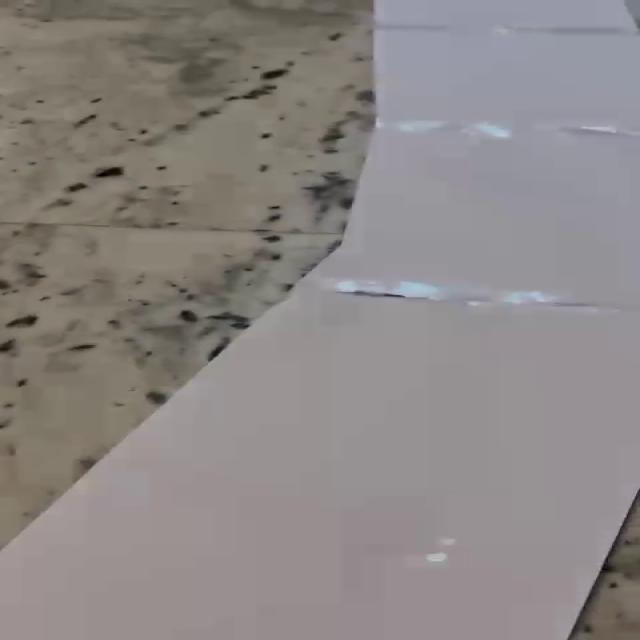road: (0, 0, 640, 640)
